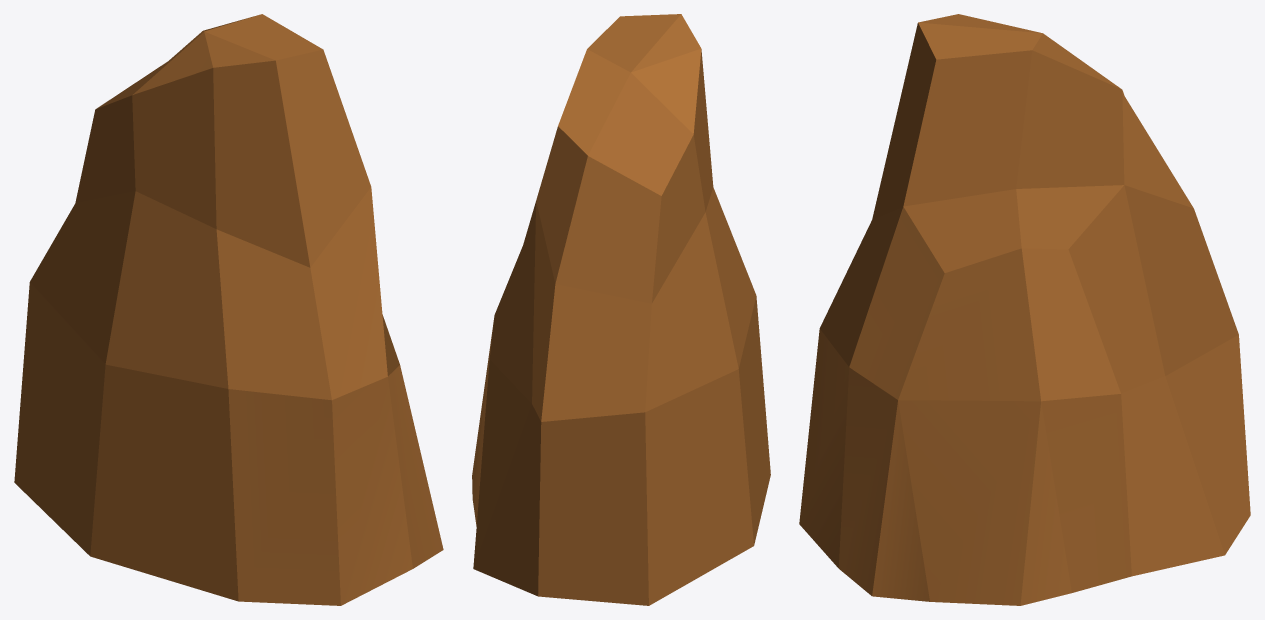
The model's file is HardRock_39.fbx.
3 views of the same model, side by side, from view 1: azimuth 30°, elevation 25°; view 2: azimuth 150°, elevation 25°; view 3: azimuth 270°, elevation 25° (orthographic). The views are drawn at different scales.
Parts seen in each view (by area): view 1: HardRock_39; view 2: HardRock_39; view 3: HardRock_39.
Part boxes in pixels (left/top/right/bottom): HardRock_39: left=14, top=14, right=443, bottom=605; HardRock_39: left=472, top=14, right=770, bottom=605; HardRock_39: left=799, top=14, right=1250, bottom=605.
Size of the model in its own units: 84.24 by 133 by 108.
